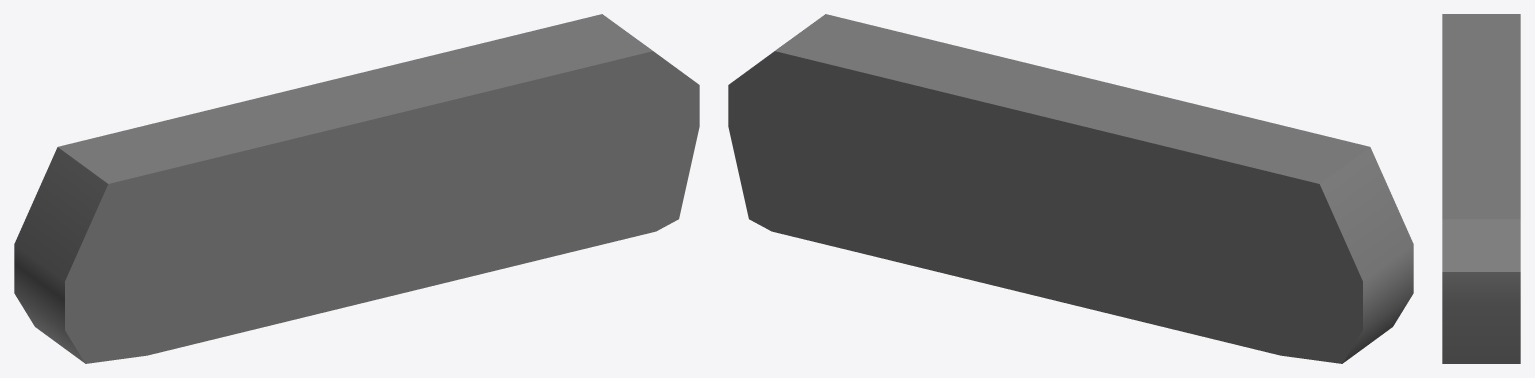
The model's file is fa-minus.obj.
3 renders of one model, left to right at view 1: azimuth 30°, elevation 25°; view 2: azimuth 150°, elevation 25°; view 3: azimuth 270°, elevation 25°, orthographic. The views are drawn at different scales.
Bounding box in the file's own units: 0.8314 × 0.2269 × 0.1152.
1 material, 1 textured.
